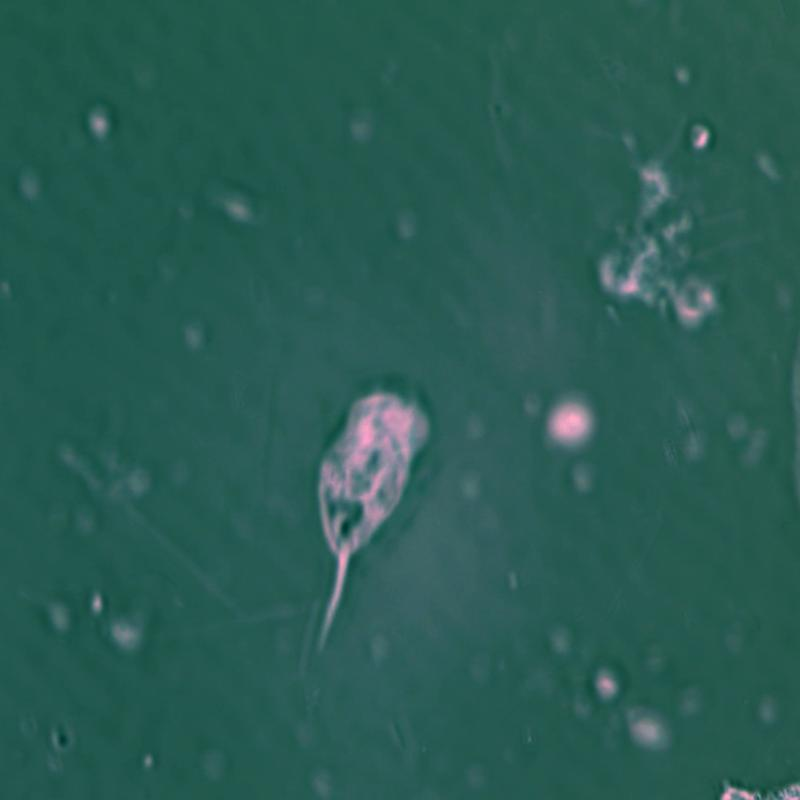depth:60: (291, 356, 504, 677)
